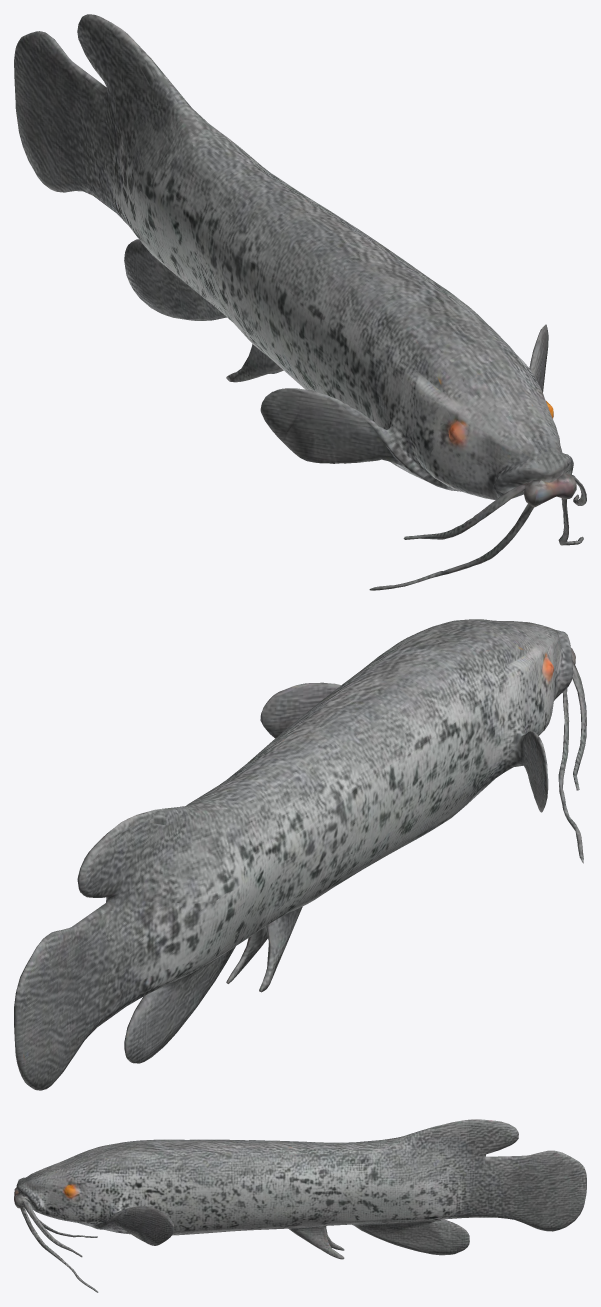
Rendered from electric_catfish.glb.
3 views of the same model, one above another, from view 1: azimuth 30°, elevation 25°; view 2: azimuth 150°, elevation 25°; view 3: azimuth 270°, elevation 25° (orthographic). The views are drawn at different scales.
Parts seen in each view (by area): view 1: geometry_0; view 2: geometry_0; view 3: geometry_0.
Part boxes in pixels (x1,y1,x2,y2): geometry_0: [14, 14, 586, 590]; geometry_0: [14, 619, 586, 1090]; geometry_0: [14, 1119, 586, 1292].
Size of the model in its own units: 0.3076 by 0.2812 by 1.
1 material, 1 textured.
